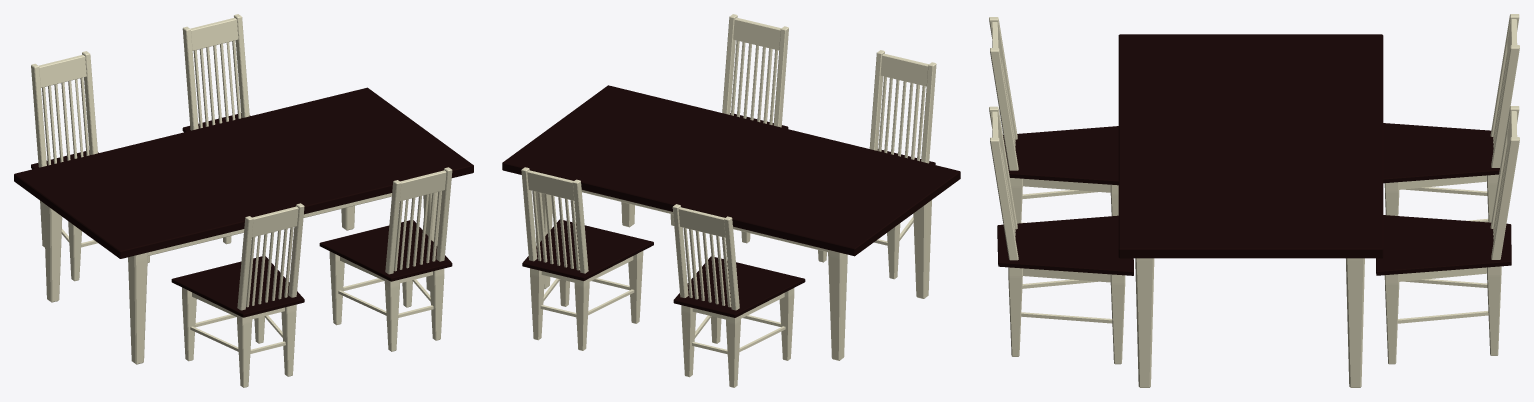
File: dining_table_and_chairs.glb
The picture shows the model from 3 angles, left to right: view 1: azimuth 30°, elevation 25°; view 2: azimuth 150°, elevation 25°; view 3: azimuth 270°, elevation 25°; orthographic projection. The views are drawn at different scales.
Size of the model in its own units: 2.17 by 1.04 by 2.27.
